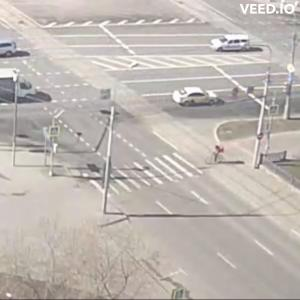car: (2, 76, 54, 108), (174, 87, 225, 109), (212, 36, 250, 54), (2, 46, 32, 60), (1, 40, 18, 58), (210, 37, 230, 52)
